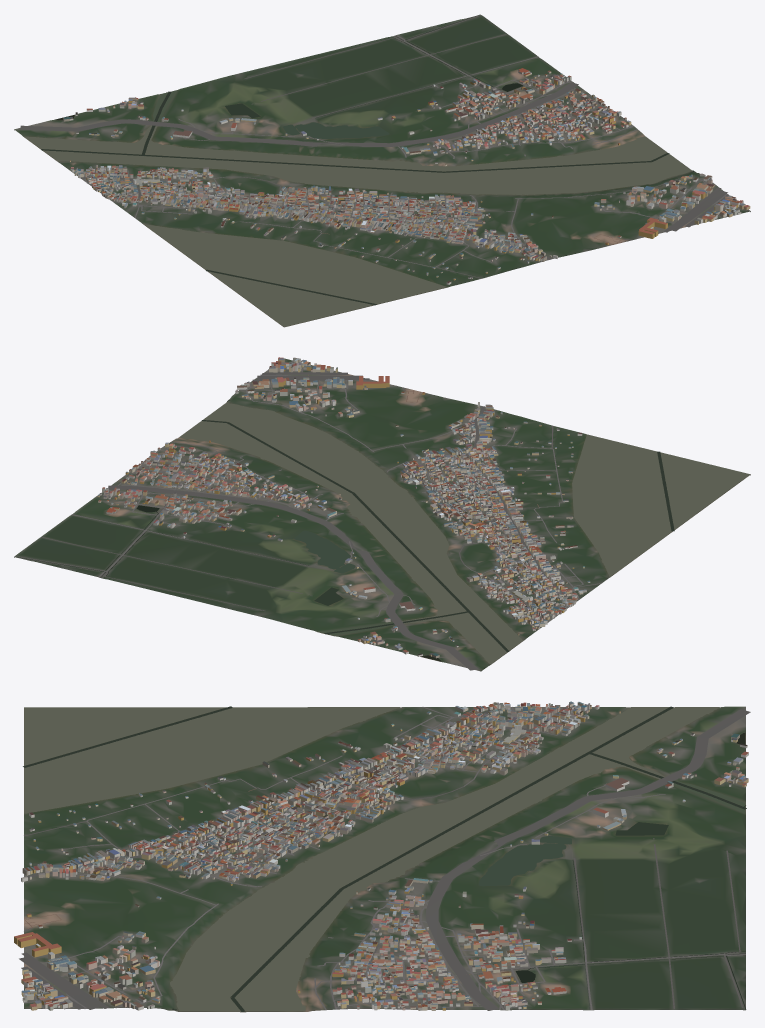
The picture shows the model from 3 angles, top to bottom: view 1: azimuth 30°, elevation 25°; view 2: azimuth 150°, elevation 25°; view 3: azimuth 270°, elevation 25°; orthographic projection. The views are drawn at different scales.
Parts seen in each view (by area): view 1: ground, water, buildings, roads; view 2: ground, water, buildings, roads; view 3: ground, water, buildings, roads.
Boxes of the visible parts, x1,y1,x2,y2 form: ground: (14,15,750,327); water: (24,14,694,326); buildings: (63,68,750,284); roads: (20,16,738,278); ground: (14,358,750,671); water: (14,400,749,664); buildings: (97,357,590,658); roads: (18,361,601,670); ground: (24,706,745,1012); water: (23,706,746,1011); buildings: (14,701,748,1010); roads: (19,707,750,1010).
Size of the model in its own units: 1418 by 28.12 by 1431.
